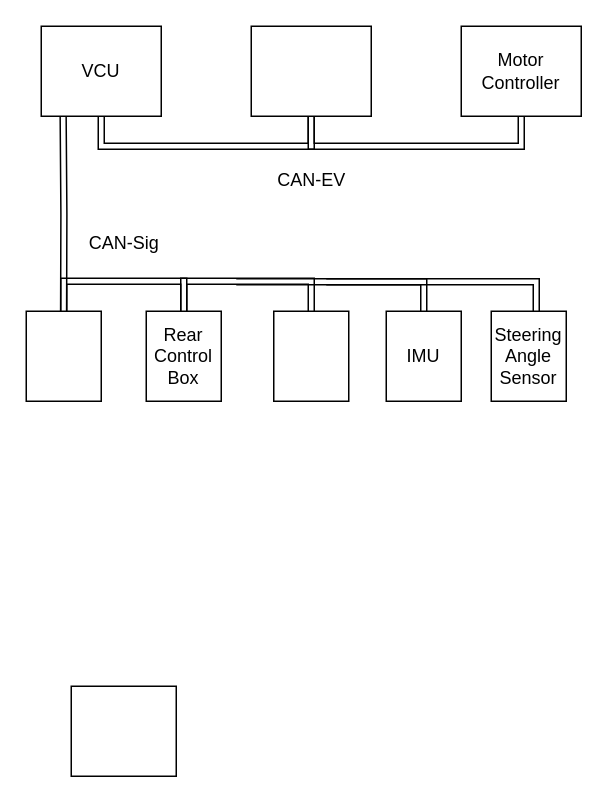
This 608x803 diagram has some shape labels left out. The centre of each missing label's shape, as x and y in pixels:
"BMS" goes at (x=310, y=70).
"Front Control Box" goes at (x=63, y=355).
"GPU" goes at (x=310, y=355).
